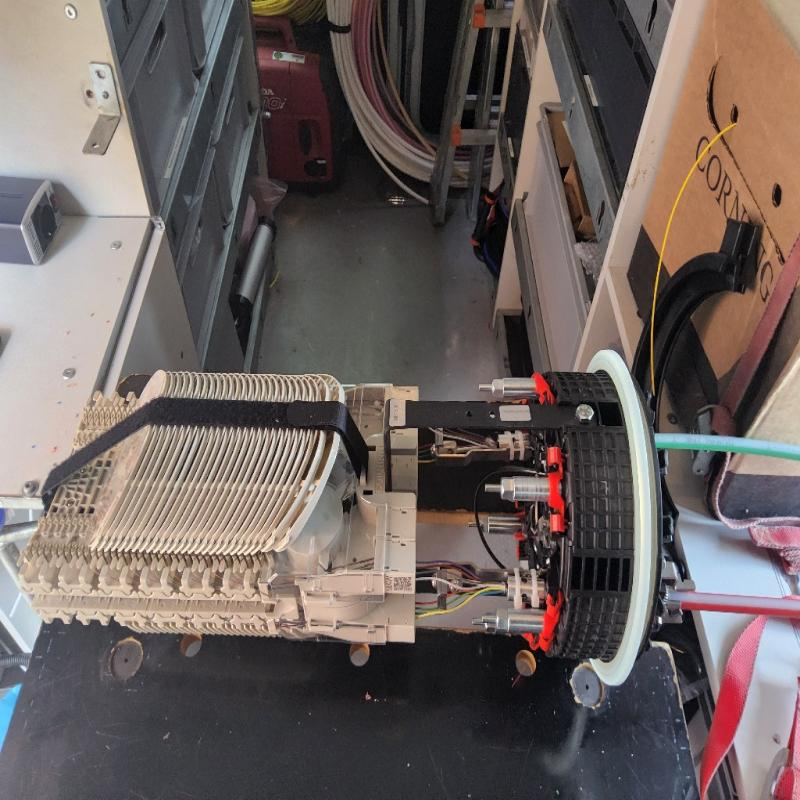NT-Muffen: (16, 339, 712, 693)
